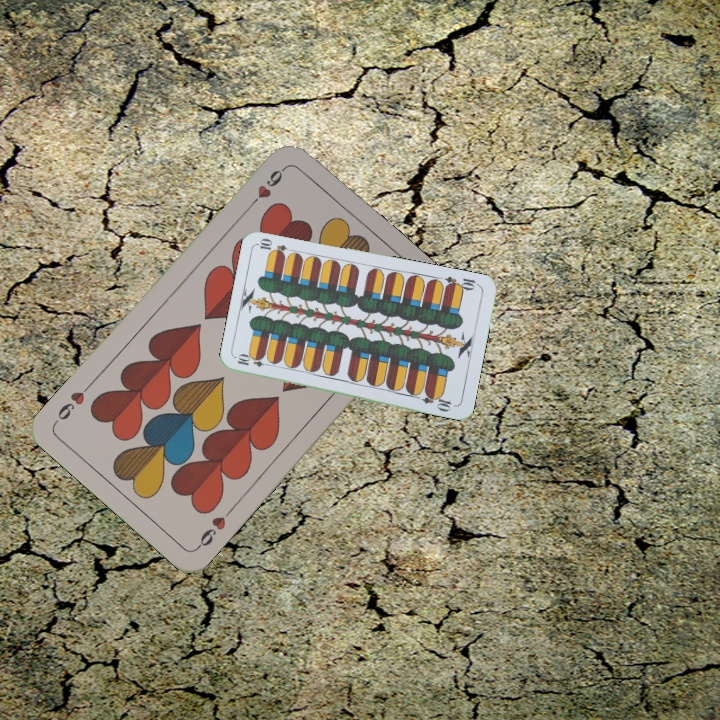E10: (441, 272, 482, 293), (234, 352, 274, 370)
H9: (192, 504, 236, 552), (245, 163, 289, 211)
